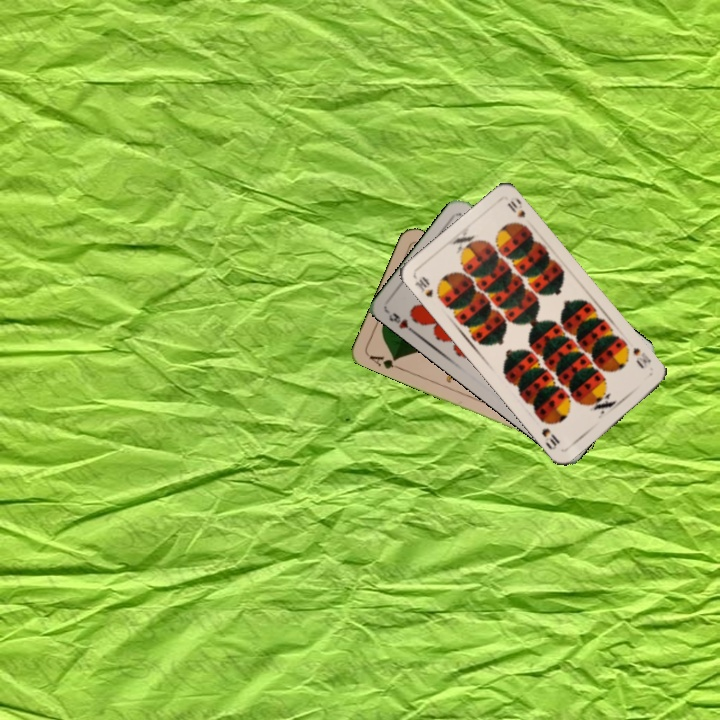GA: (365, 351, 403, 372)
H9: (384, 307, 418, 337)
S10: (411, 272, 436, 300), (629, 343, 654, 371)
